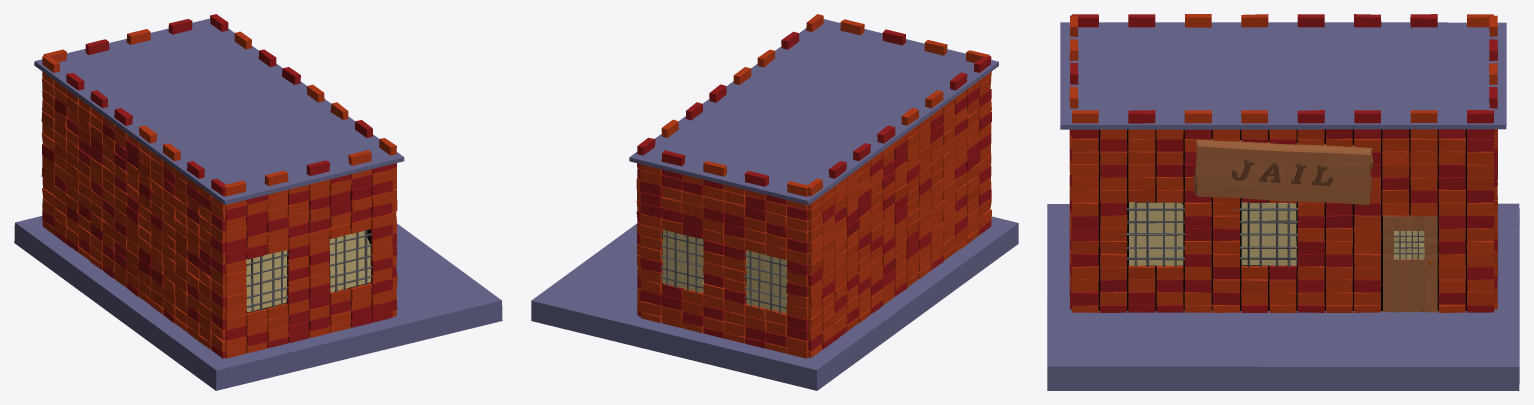
The model's file is Jailhouse.fbx.
3 renders of one model, left to right at view 1: azimuth 30°, elevation 25°; view 2: azimuth 150°, elevation 25°; view 3: azimuth 270°, elevation 25°, orthographic. The views are drawn at different scales.
Visible parts, largest first — view 1: Jail; view 2: Jail; view 3: Jail, Text.
Boxes of the visible parts, x1=… form: Jail: x1=14, y1=14, x2=502, y2=390; Jail: x1=531, y1=14, x2=1018, y2=390; Jail: x1=1047, y1=14, x2=1519, y2=390; Text: x1=1232, y1=160, x2=1333, y2=185.
Bounding box in the file's own units: 293 × 187 × 357.
